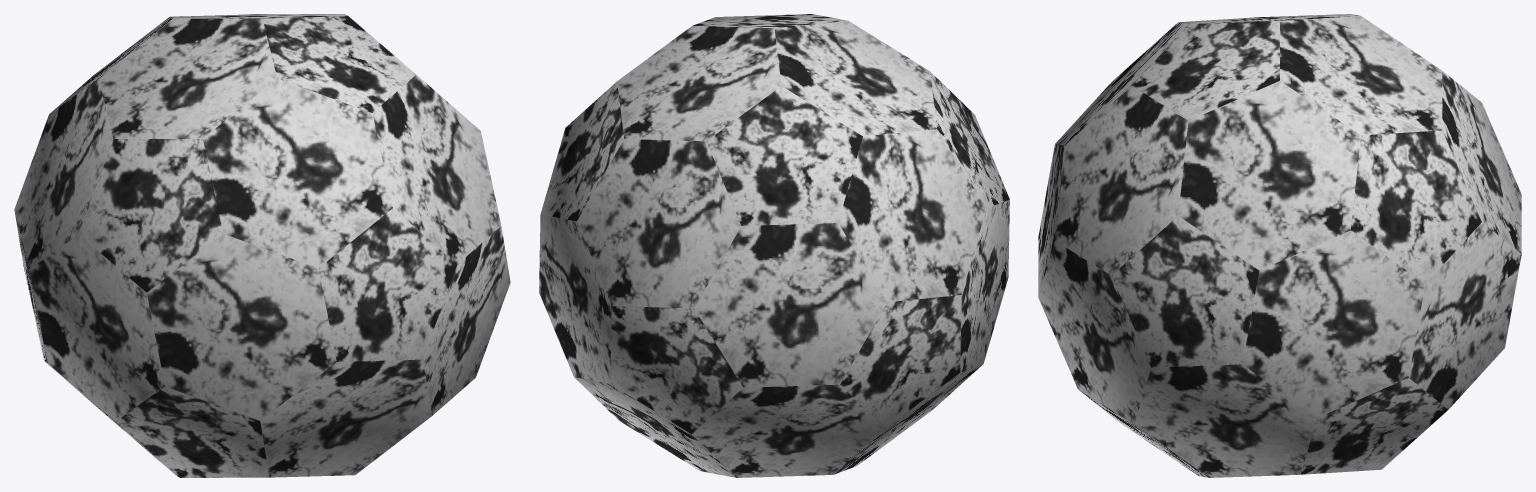
Rendered from Bigmap0001f_star04.fbx.
3 renders of one model, left to right at view 1: azimuth 30°, elevation 25°; view 2: azimuth 150°, elevation 25°; view 3: azimuth 270°, elevation 25°, orthographic. The views are drawn at different scales.
Parts seen in each view (by area): view 1: Bigmap0001f_star04; view 2: Bigmap0001f_star04; view 3: Bigmap0001f_star04.
Boxes of the visible parts, x1=… form: Bigmap0001f_star04: x1=14, y1=14, x2=510, y2=477; Bigmap0001f_star04: x1=539, y1=14, x2=1009, y2=477; Bigmap0001f_star04: x1=1038, y1=14, x2=1521, y2=477.
Bounding box in the file's own units: 1.97 × 2 × 1.95.
